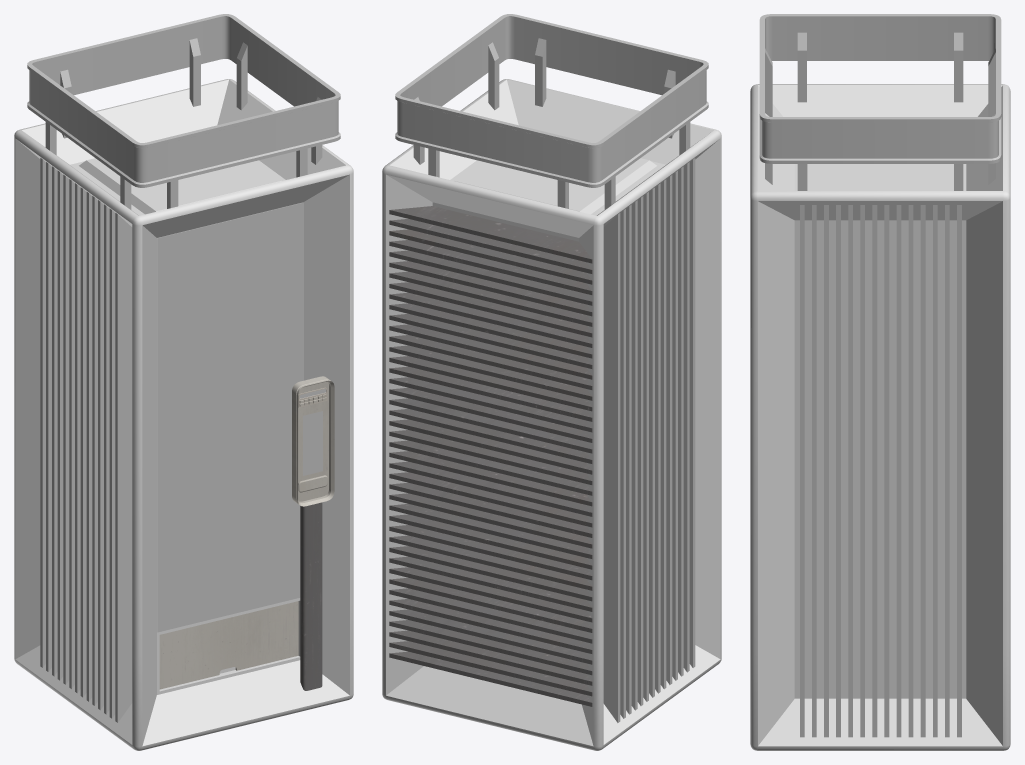
The model's file is KB3D_CBP_VendingMachine_F.fbx.
The picture shows the model from 3 angles, left to right: view 1: azimuth 30°, elevation 25°; view 2: azimuth 150°, elevation 25°; view 3: azimuth 270°, elevation 25°; orthographic projection. The views are drawn at different scales.
Parts seen in each view (by area): view 1: KB3D_CBP_VendingMachine_F_Main; view 2: KB3D_CBP_VendingMachine_F_Main; view 3: KB3D_CBP_VendingMachine_F_Main.
Boxes of the visible parts, x1,y1,x2,y2 form: KB3D_CBP_VendingMachine_F_Main: (14, 14, 353, 750); KB3D_CBP_VendingMachine_F_Main: (382, 14, 721, 750); KB3D_CBP_VendingMachine_F_Main: (750, 14, 1010, 750).
Size of the model in its own units: 105 by 275 by 103.
